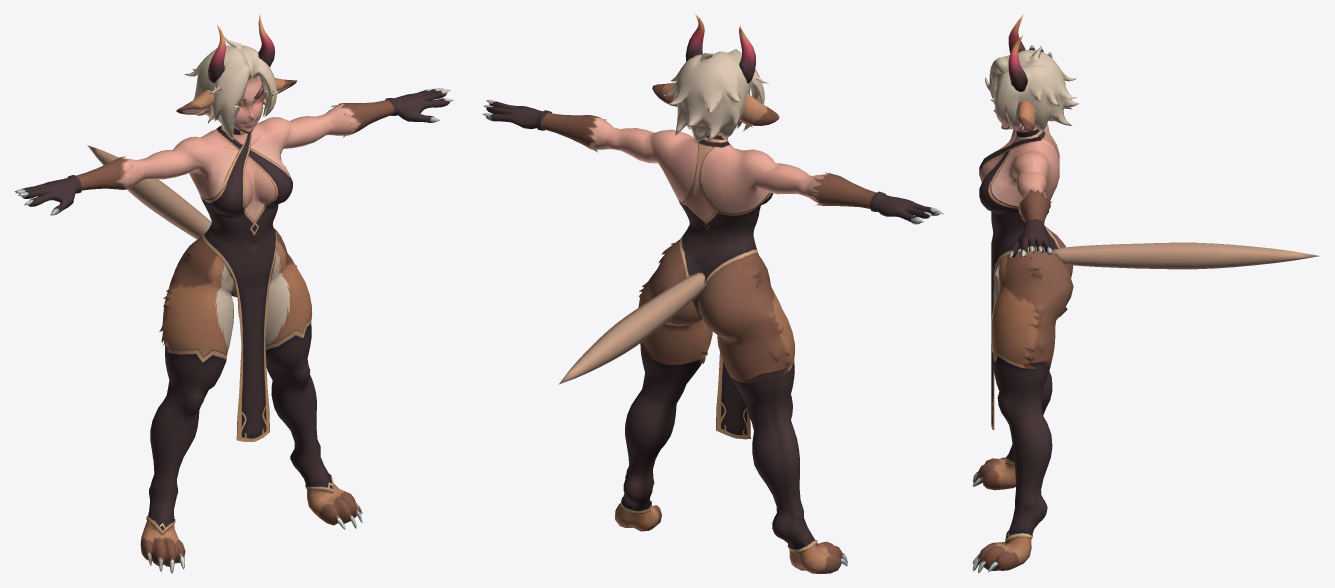
Rendered from succubus_body_v1_tex.fbx.
3 views of the same model, side by side, from view 1: azimuth 30°, elevation 25°; view 2: azimuth 150°, elevation 25°; view 3: azimuth 270°, elevation 25° (orthographic). The views are drawn at different scales.
Parts seen in each view (by area): view 1: bb2b3fee_09ea_4b72_8d01_56a4956c9d4a; view 2: bb2b3fee_09ea_4b72_8d01_56a4956c9d4a; view 3: bb2b3fee_09ea_4b72_8d01_56a4956c9d4a.
Boxes of the visible parts, left/top/right/bottom form: bb2b3fee_09ea_4b72_8d01_56a4956c9d4a: left=14, top=14, right=453, bottom=573; bb2b3fee_09ea_4b72_8d01_56a4956c9d4a: left=482, top=14, right=943, bottom=573; bb2b3fee_09ea_4b72_8d01_56a4956c9d4a: left=972, top=14, right=1319, bottom=573.
Size of the model in its own units: 0.8823 by 0.9995 by 0.6265.
1 material, 1 textured.
